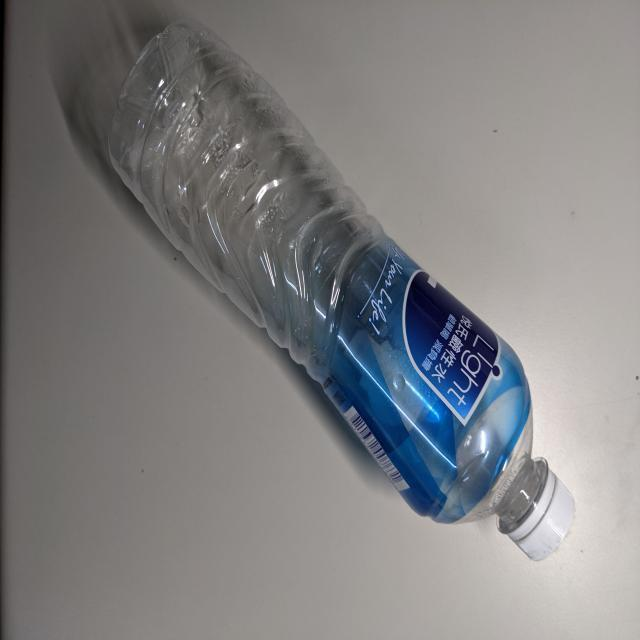Plastic: (110, 15, 577, 561)
